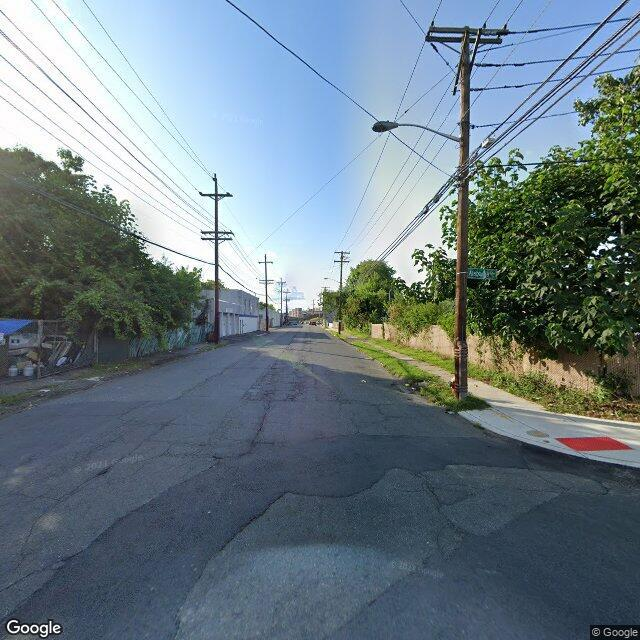pothole: (93, 464, 115, 480)
